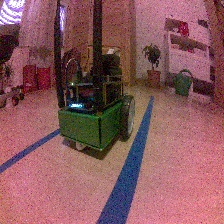rob: (57, 53, 136, 151)
